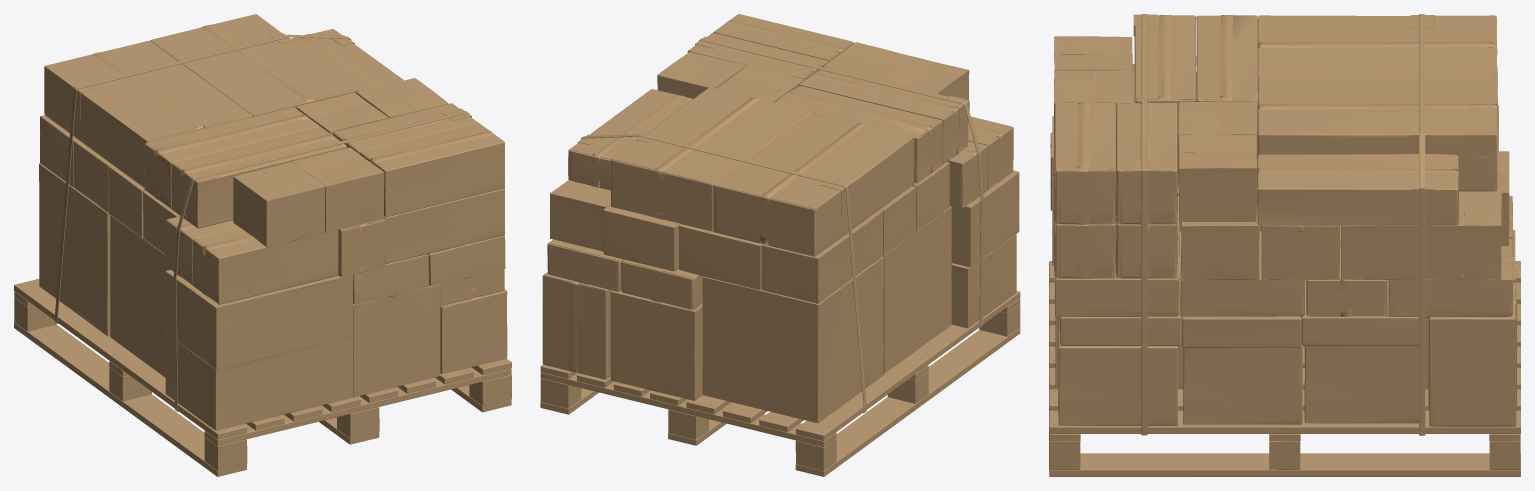
Rendered from pallet_assembly_brown_e04.glb.
3 views of the same model, side by side, from view 1: azimuth 30°, elevation 25°; view 2: azimuth 150°, elevation 25°; view 3: azimuth 270°, elevation 25° (orthographic). The views are drawn at different scales.
Bounding box in the file's own units: 1.01 × 0.8665 × 1.2.
